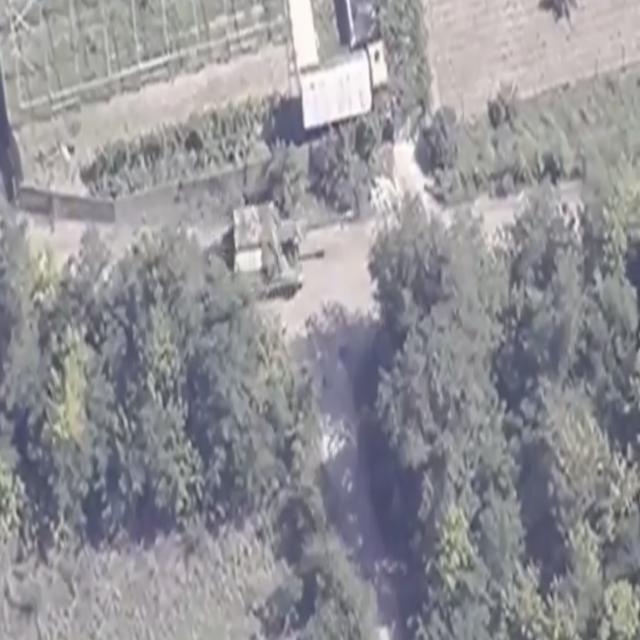vehicle: (230, 204, 326, 298)
